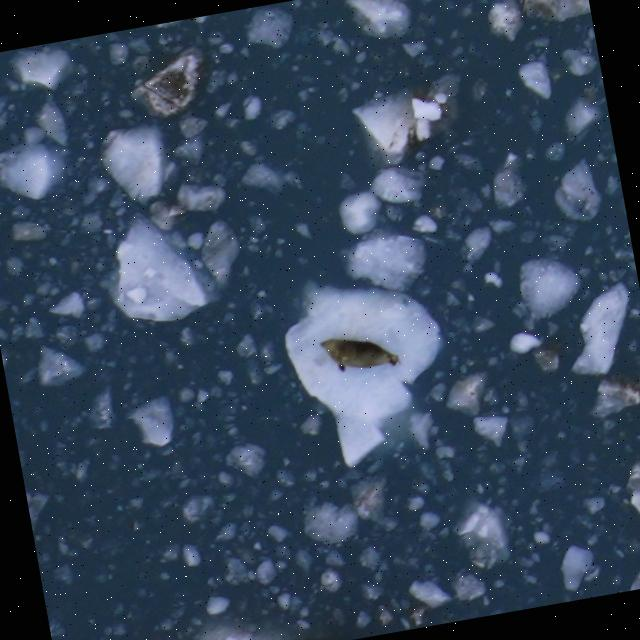seal: (314, 322, 404, 381)
